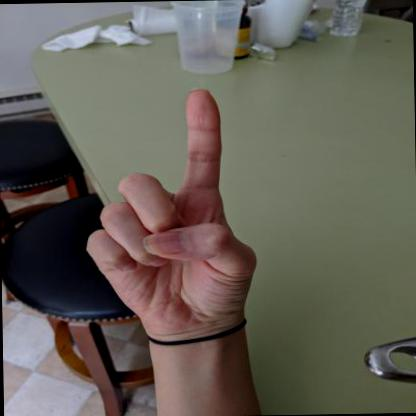D: (85, 87, 256, 338)
